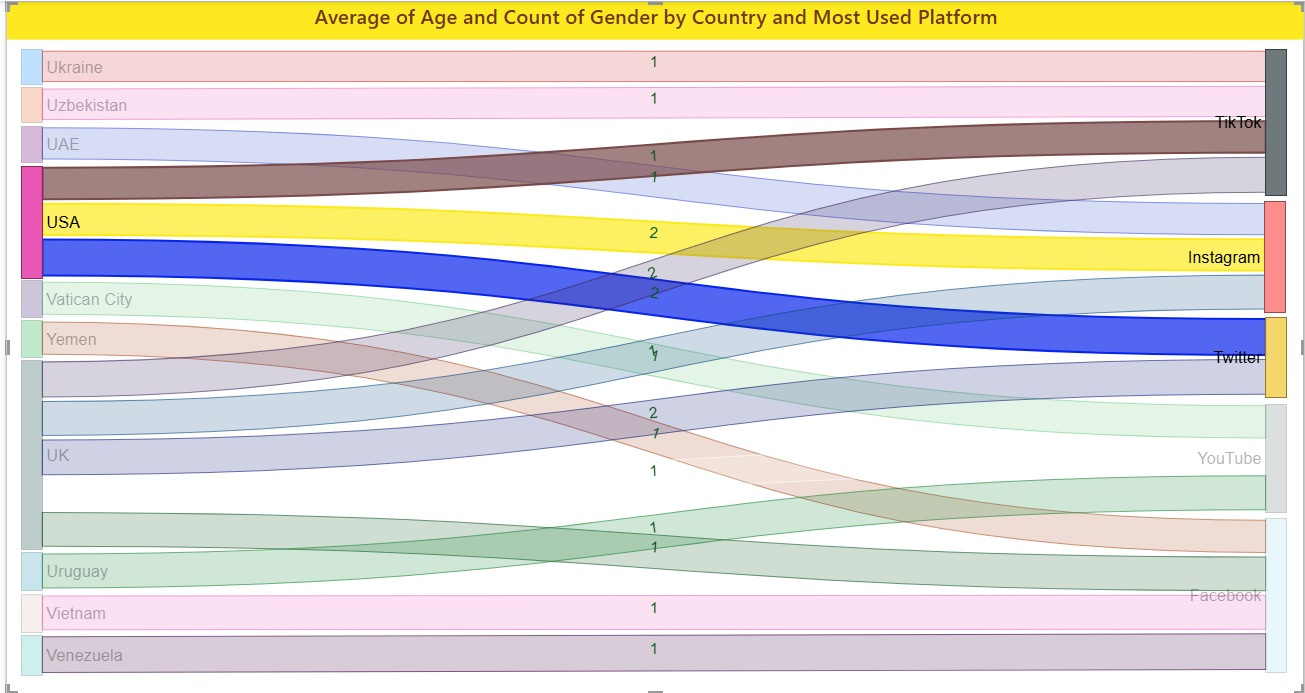

The page's visual inventory and layout, read from the dashboard file:
{"tool":"powerbi","page":{"name":"Visual repr","canvas":[1280,720],"ordinal":1},"visuals":[{"type":"sankey02300D1BE6F5427989F3DE31CCA9E0F32020","title":"Average of Age and Count of Gender by Country and Most Used Platform","fields":{"Source":["Students Social Media Addiction.Country"],"SourceLabels":["Count(Students Social Media Addiction.Gender)"],"Destination":["Students Social Media Addiction.Most_Used_Platform"],"Weight":["Avg(Students Social Media Addiction.Age)"]},"box":[9.6,0,1270.7,679.2],"z":0}]}

Visuals, with their boxes on the page's 1280x720 design canvas (x1, y1, x2, y2). These are canvas units, not pixel positions in the 1305x693 screenshot, which may show the page scaled, cropped or inside an application window:
"Average of Age and Count of Gender by Country and Most Used Platform" sankey02300D1BE6F5427989F3DE31CCA9E0F32020: detection(10, 0, 1280, 679)
